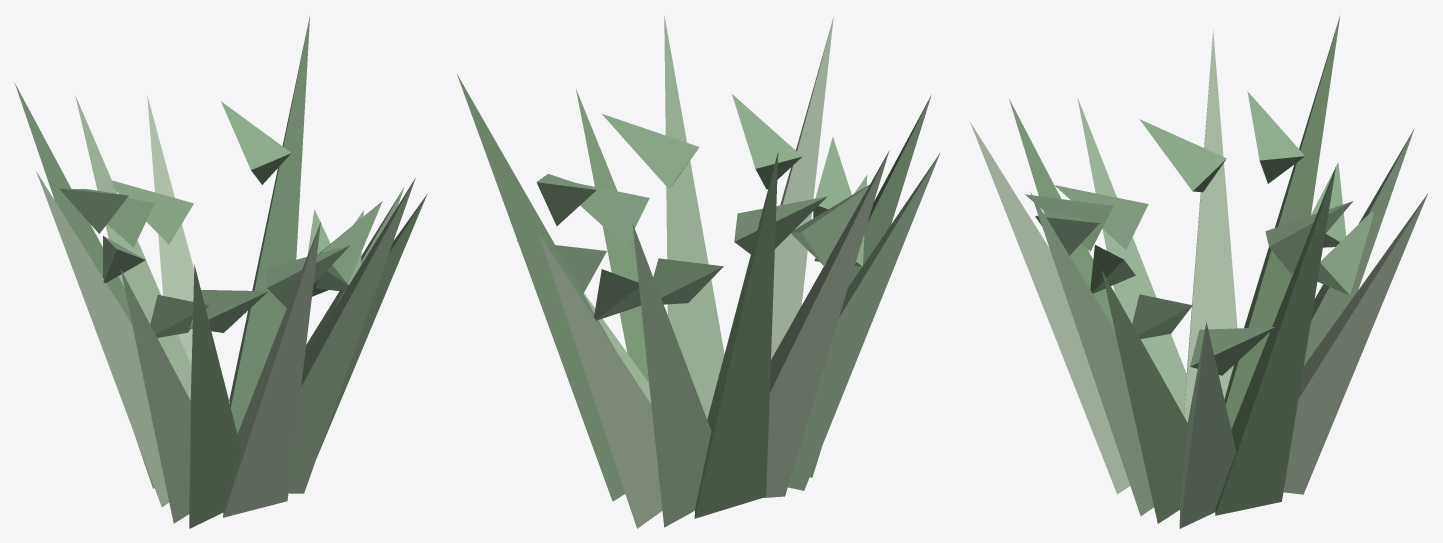
The model's file is prop_herb_mugwort.glb.
3 renders of one model, left to right at view 1: azimuth 30°, elevation 25°; view 2: azimuth 150°, elevation 25°; view 3: azimuth 270°, elevation 25°, orthographic. The views are drawn at different scales.
Parts seen in each view (by area): view 1: prop_herb_mugwort; view 2: prop_herb_mugwort; view 3: prop_herb_mugwort.
Part boxes in pixels (left/top/right/bottom): prop_herb_mugwort: left=14, top=16, right=427, bottom=528; prop_herb_mugwort: left=457, top=15, right=939, bottom=528; prop_herb_mugwort: left=970, top=15, right=1427, bottom=528.
Size of the model in its own units: 0.4427 by 0.454 by 0.4632.
